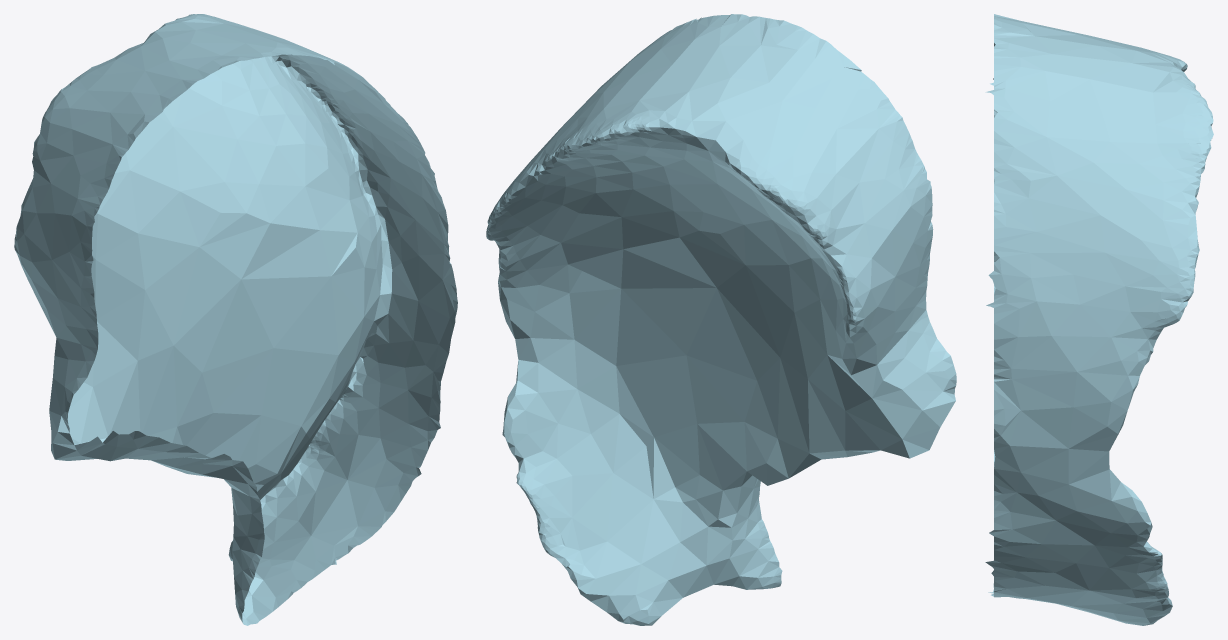
Rendered from leftlung.obj.
The picture shows the model from 3 angles, left to right: view 1: azimuth 30°, elevation 25°; view 2: azimuth 150°, elevation 25°; view 3: azimuth 270°, elevation 25°; orthographic projection.
Visible parts, largest first — view 1: grp1; view 2: grp1; view 3: grp1.
Part boxes in pixels (x1,y1,x2,y2): grp1: [14, 14, 457, 625]; grp1: [486, 14, 956, 625]; grp1: [985, 14, 1213, 625].
Size of the model in its own units: 110 by 151 by 55.27.
